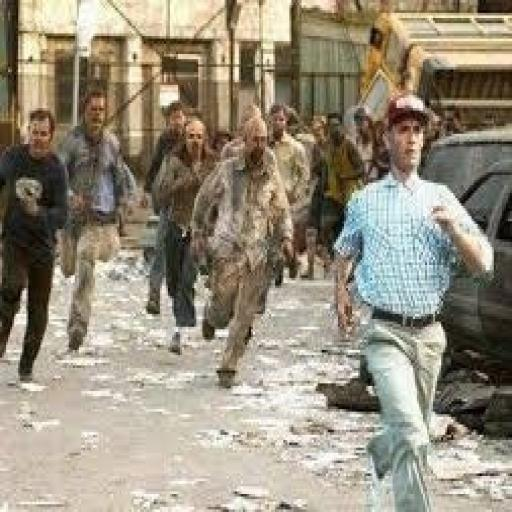running: (328, 90, 498, 509), (188, 108, 300, 391), (54, 85, 144, 358), (0, 105, 73, 386), (148, 110, 222, 358)
